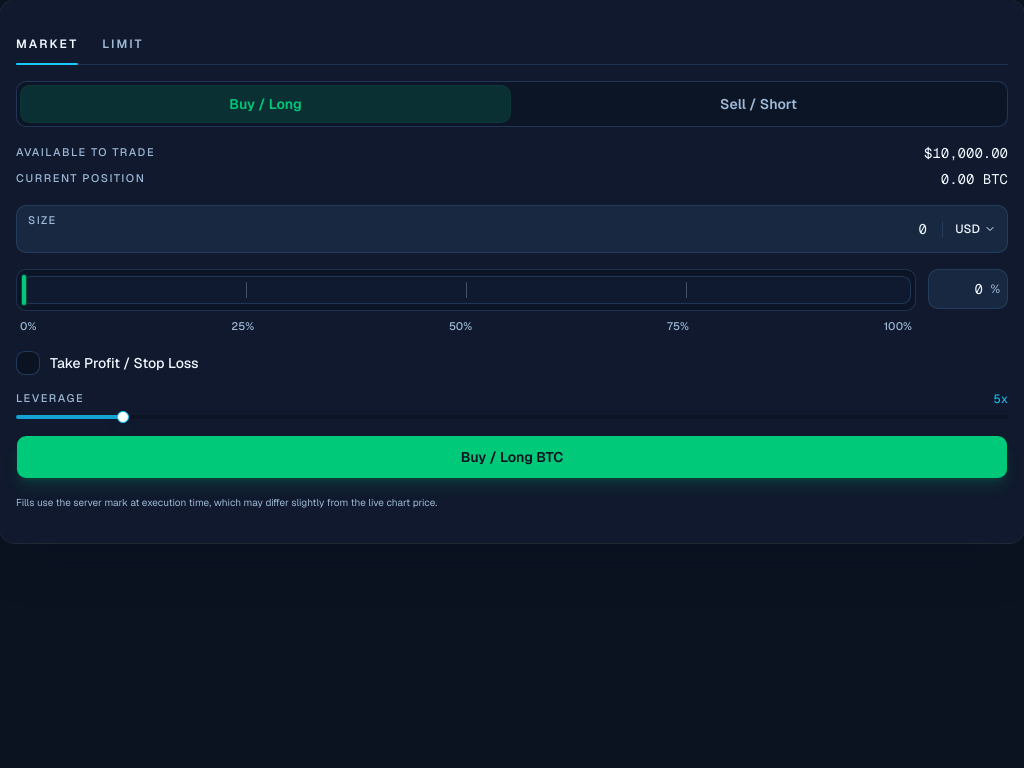
it: OrderEntry › shows order preview when size is greater than zero
The image size is (1024, 768).
Replace the text in the number field labelled "Size" with "1000" at [512, 229], box top-left (16, 205), bottom-right (1008, 253)
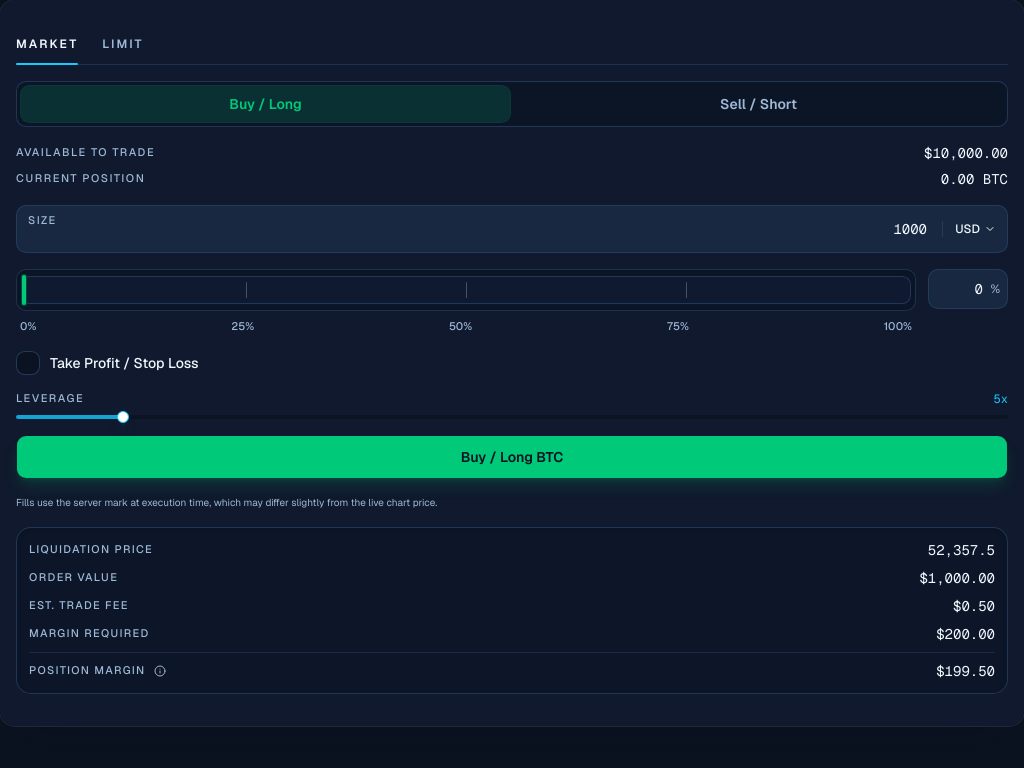
Result: the text "Margin Required" is shown at top-left (29, 626), bottom-right (150, 642)
Result: the text "Position Margin" is shown at top-left (29, 661), bottom-right (170, 681)
